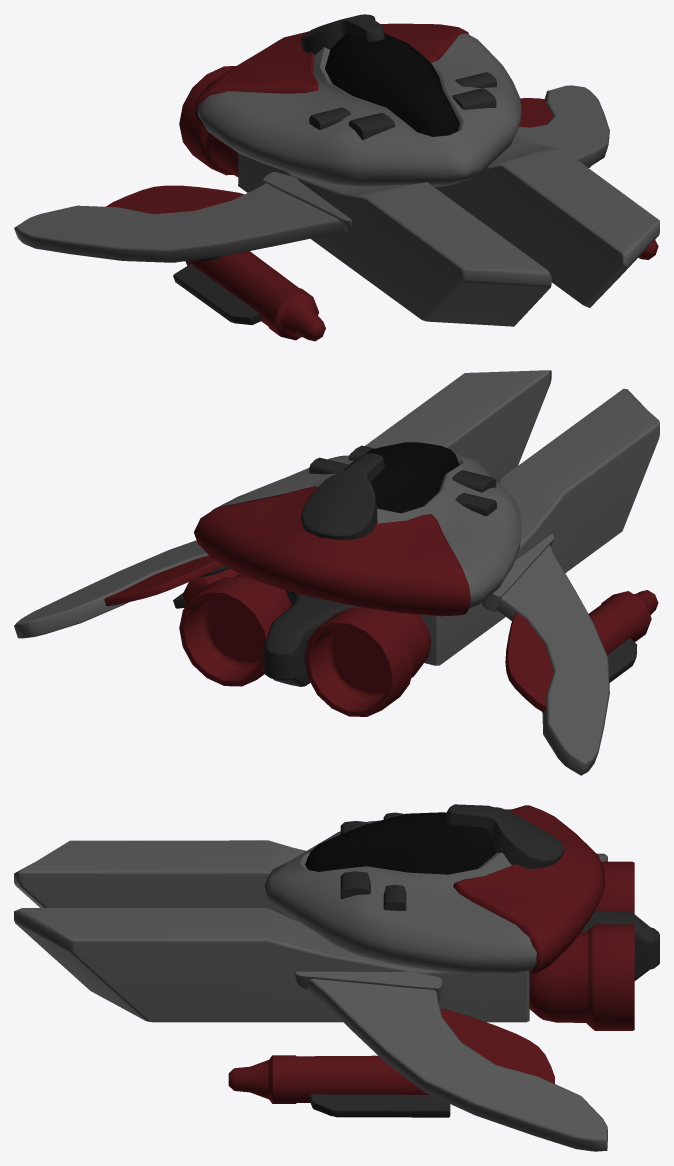
File: LittleEnnemy2.glb
3 renders of one model, top to bottom at view 1: azimuth 30°, elevation 25°; view 2: azimuth 150°, elevation 25°; view 3: azimuth 270°, elevation 25°, orthographic. The views are drawn at different scales.
Visible parts, largest first — view 1: Ship_enemy_02_Hull, Ship_enemy_02_Wing_R, Ship_enemy_02_Weapon_R, Ship_enemy_02_Wing_L, Ship_enemy_02_Engine; view 2: Ship_enemy_02_Hull, Ship_enemy_02_Engine, Ship_enemy_02_Wing_R, Ship_enemy_02_Wing_L, Ship_enemy_02_Weapon_R, Ship_enemy_02_Weapon_L; view 3: Ship_enemy_02_Hull, Ship_enemy_02_Wing_L, Ship_enemy_02_Engine, Ship_enemy_02_Weapon_L.
Part boxes in pixels (x1,y1,x2,y2): Ship_enemy_02_Hull: [194, 14, 659, 326]; Ship_enemy_02_Wing_R: [14, 171, 351, 262]; Ship_enemy_02_Weapon_R: [173, 251, 325, 341]; Ship_enemy_02_Wing_L: [515, 85, 609, 167]; Ship_enemy_02_Engine: [179, 66, 238, 176]; Ship_enemy_02_Hull: [194, 370, 659, 665]; Ship_enemy_02_Engine: [179, 574, 431, 716]; Ship_enemy_02_Wing_R: [482, 533, 609, 775]; Ship_enemy_02_Wing_L: [14, 540, 223, 638]; Ship_enemy_02_Weapon_R: [589, 590, 658, 682]; Ship_enemy_02_Weapon_L: [173, 565, 238, 608]; Ship_enemy_02_Hull: [14, 804, 605, 1022]; Ship_enemy_02_Wing_L: [294, 971, 607, 1151]; Ship_enemy_02_Engine: [529, 861, 659, 1030]; Ship_enemy_02_Weapon_L: [228, 1055, 450, 1117].
Bounding box in the file's own units: 6.52 × 2.25 × 6.22.
Materials: 1 (1 with a texture image).
